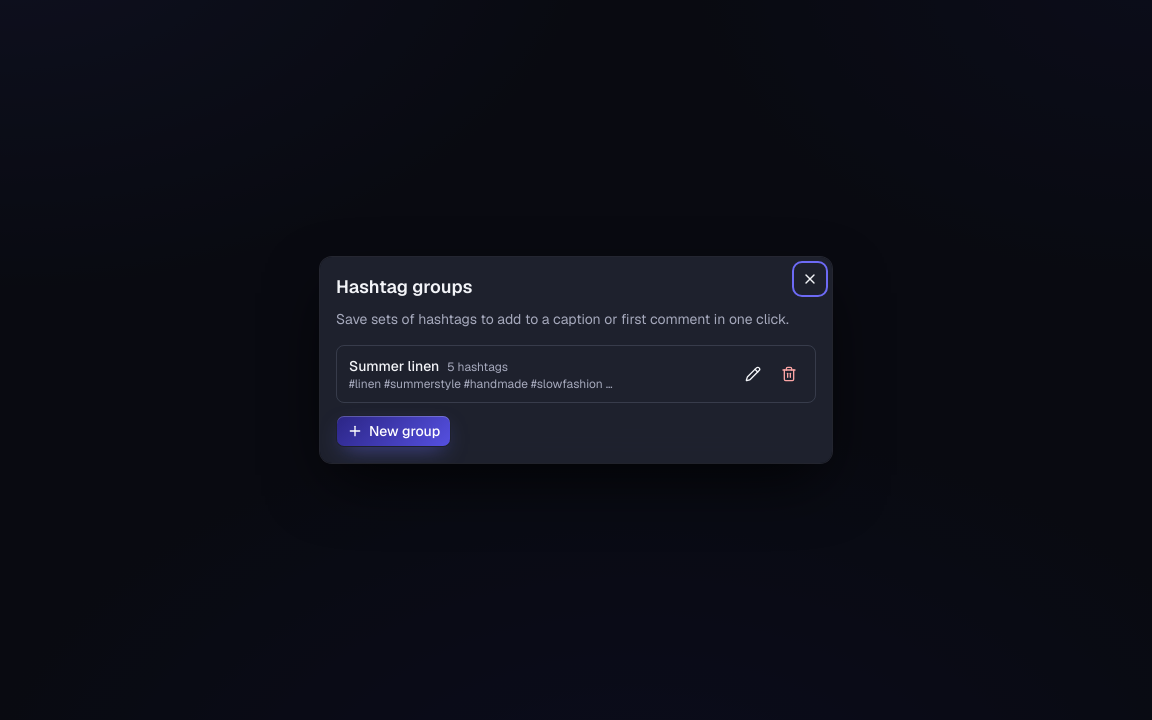
Scenario: HashtagGroupsDialog (UX-SCR-14, FR-PUB-12) › edits and deletes a group
Click the button named "Edit Summer linen" at (753, 374), box [739,360,767,388]
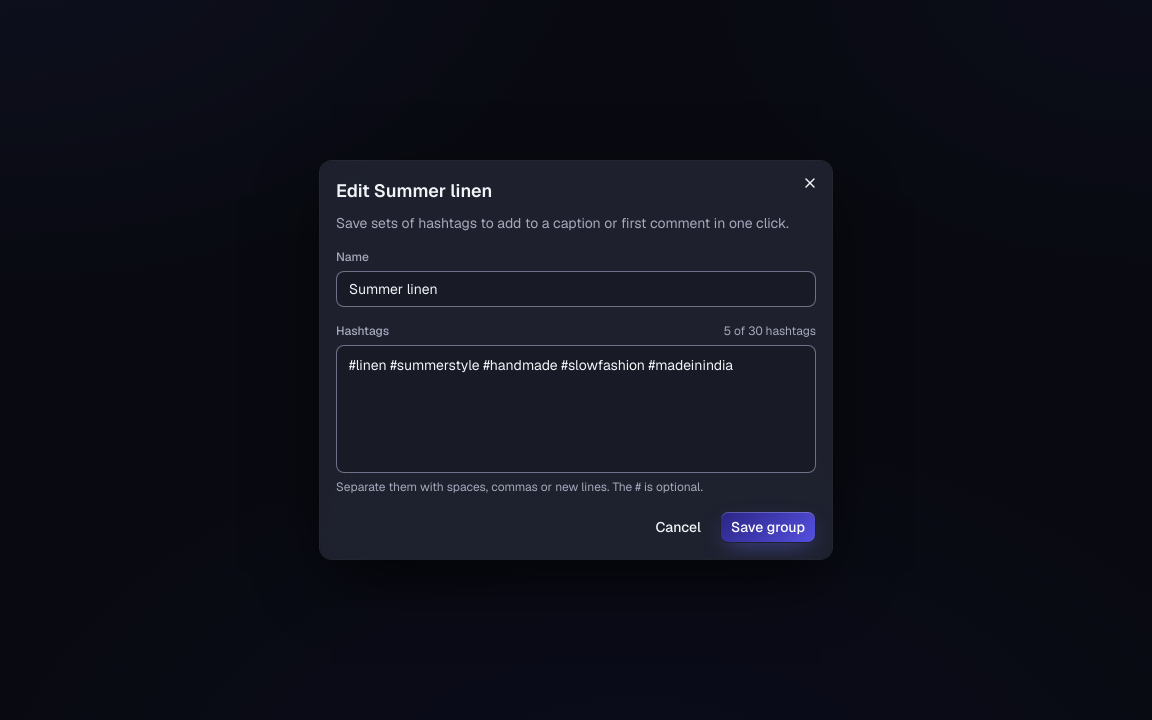
Expected: the text box labelled "Hashtags" holds "#linen #summerstyle #handmade #slowfashion #madeinindia", [336,345,816,473]
Replace the text in the field labelled "Name" with "Linen" at (576, 289), box [336,271,816,307]
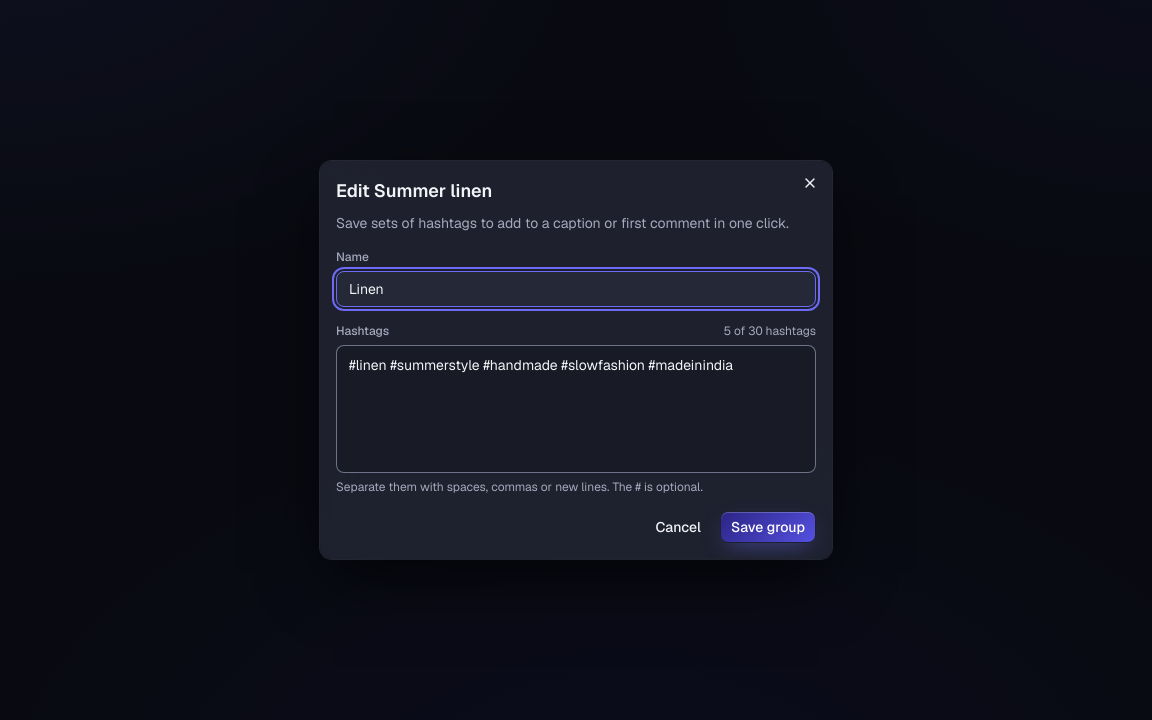
Click the button "Save group" at (768, 527), box [720,511,816,543]
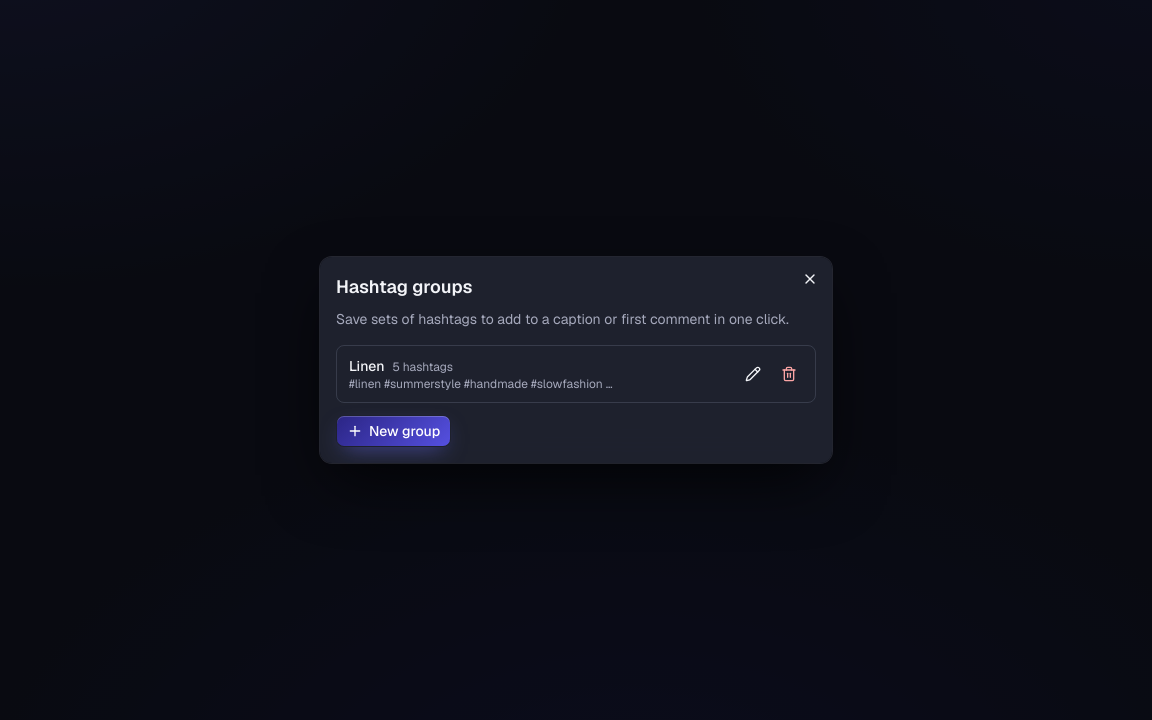
Click the button named "Delete Linen" at (789, 374), box [775,360,803,388]
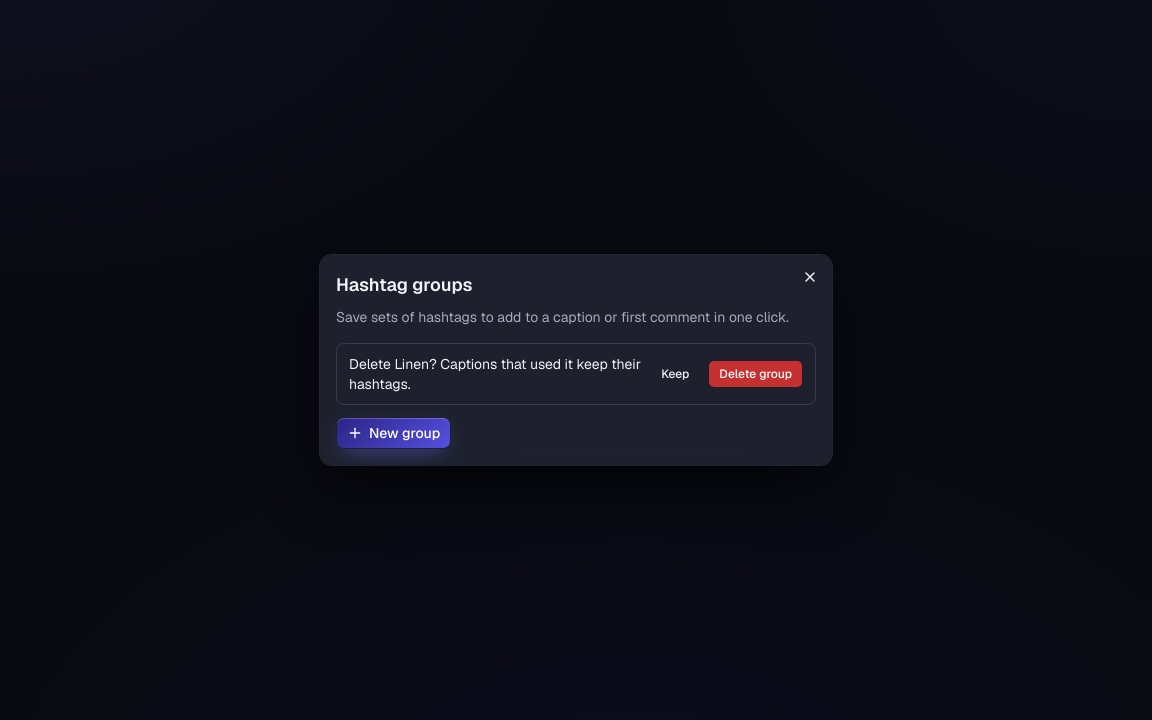
Click the button "Delete group" at (756, 374), box [708,360,803,388]
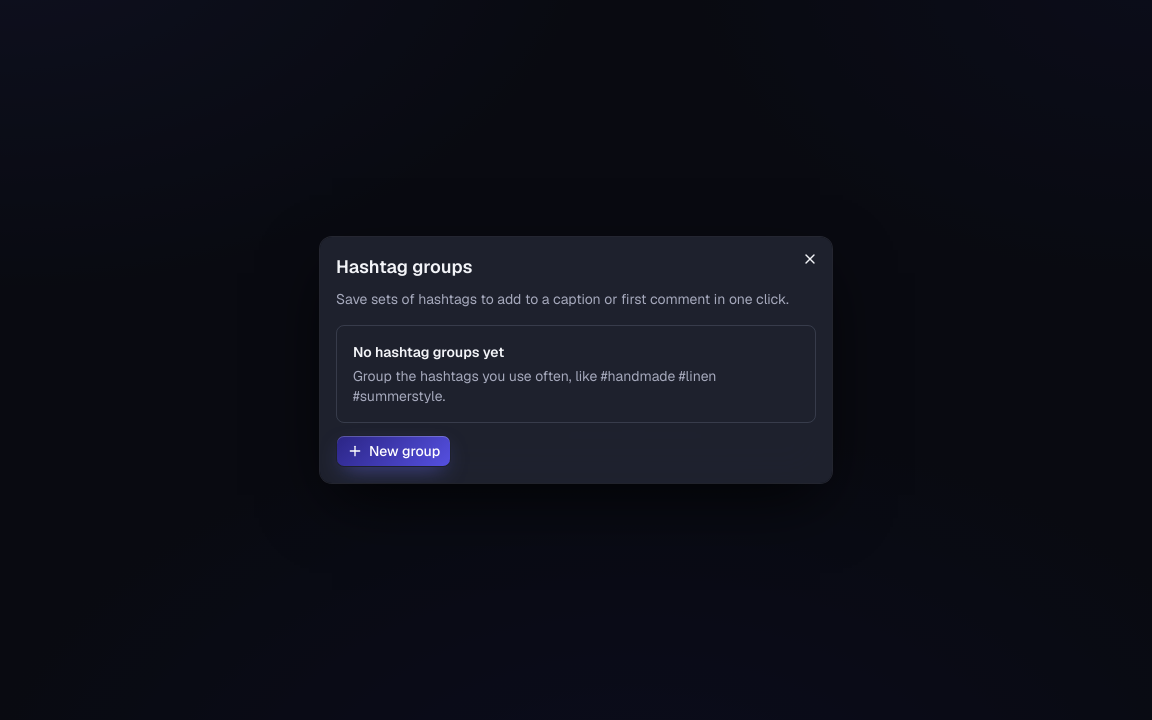
Expected: the text "No hashtag groups yet" is shown, [353,342,504,362]
